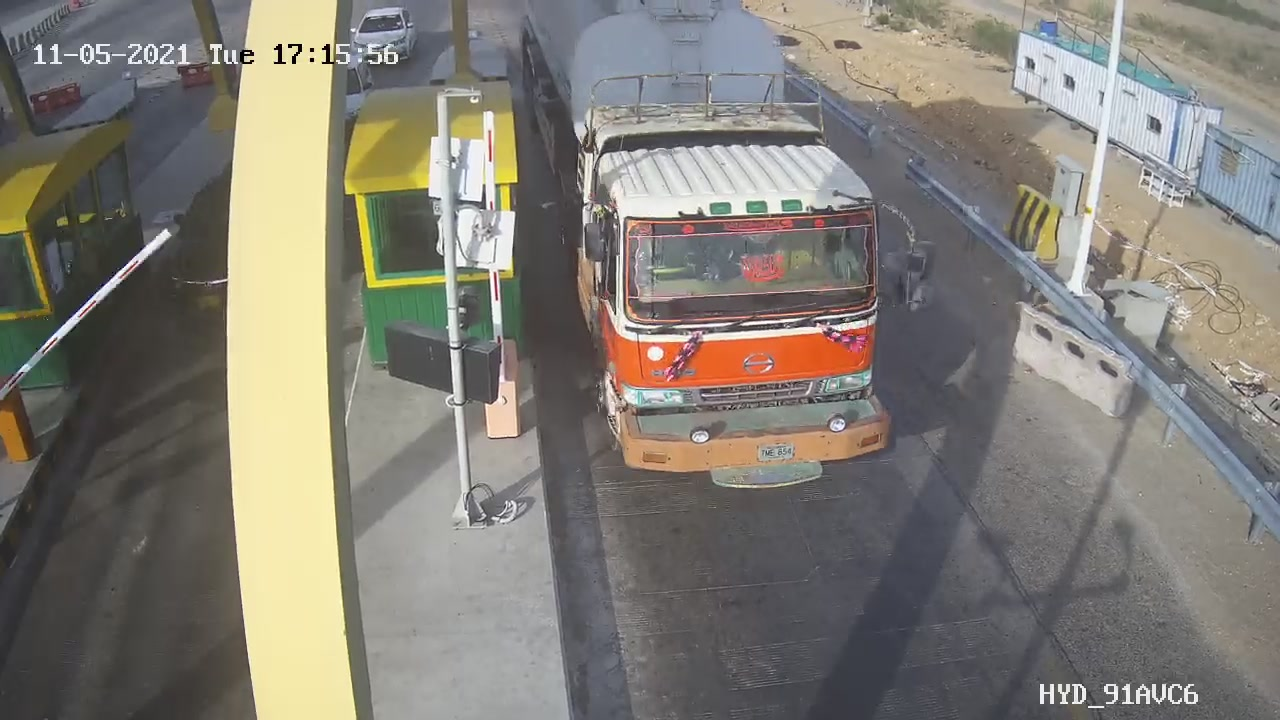F6: (507, 1, 966, 517)
